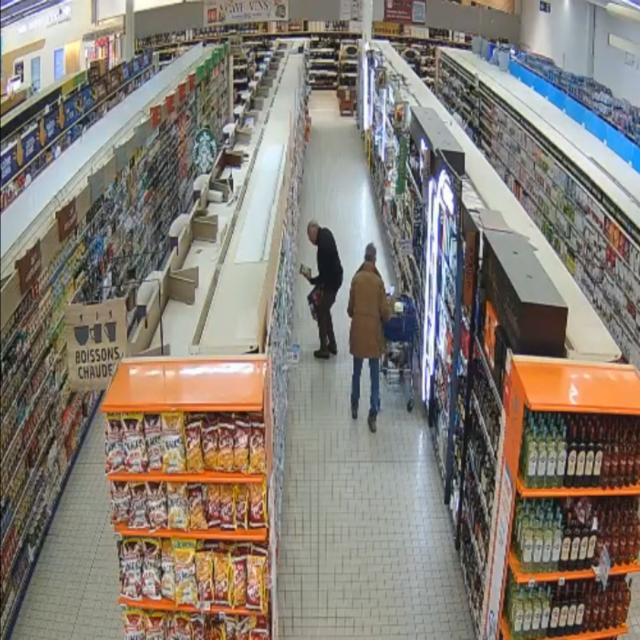article: (299, 264, 312, 279)
bags: (308, 286, 321, 321)
person: (348, 243, 391, 432), (308, 221, 343, 359)
